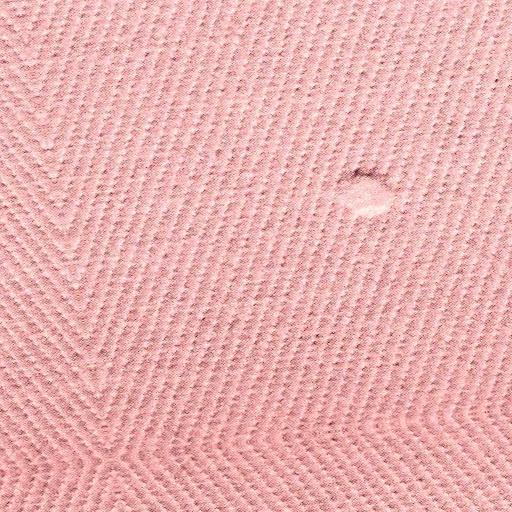knot: (328, 164, 403, 226)
